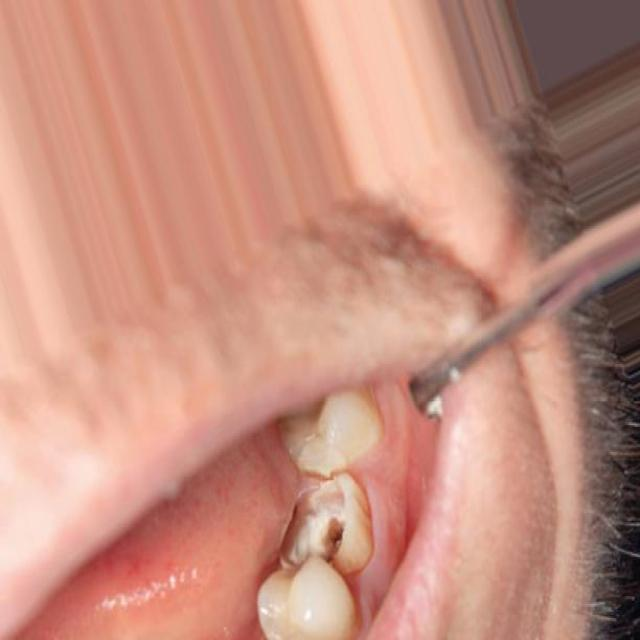caries: (275, 468, 369, 578)
